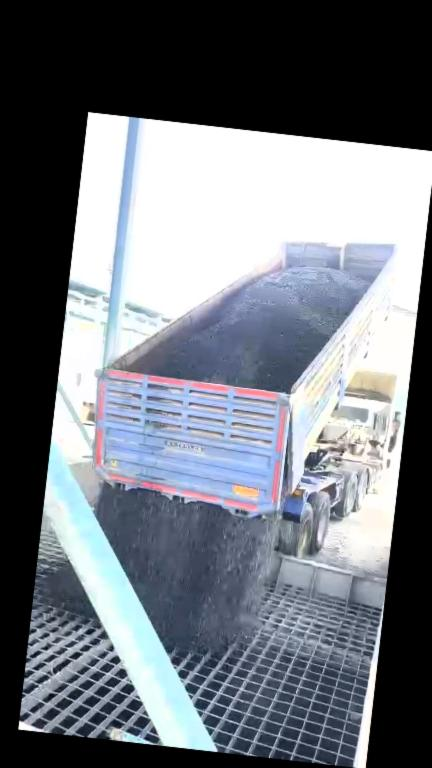gravel: (95, 484, 277, 650), (144, 268, 366, 391), (48, 566, 94, 615)
